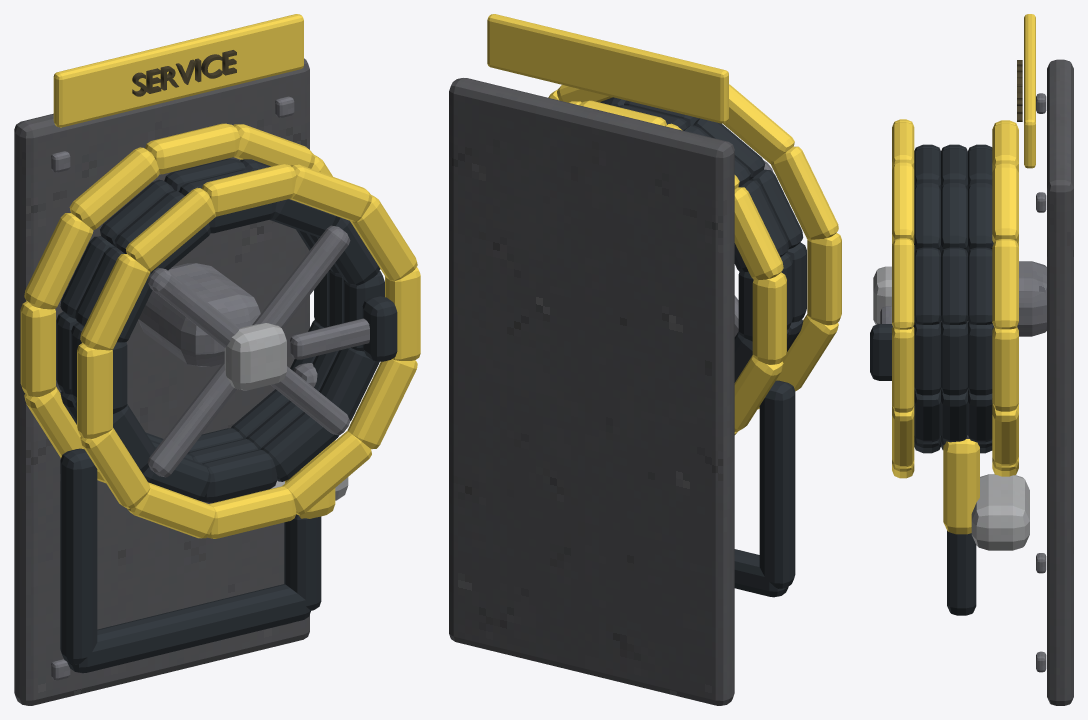
The model's file is decor_eng_hose_reel.glb.
3 renders of one model, left to right at view 1: azimuth 30°, elevation 25°; view 2: azimuth 150°, elevation 25°; view 3: azimuth 270°, elevation 25°, orthographic. The views are drawn at different scales.
Visible parts, largest first — view 1: DEC_EngHoseReel__Wall_Plate, DEC_EngHoseReel__Service_Label_Plate, DEC_EngHoseReel__Hose_Bottom_Bend, DEC_EngHoseReel__Hose_Drop, DEC_EngHoseReel__Drum_Spoke_1, DEC_EngHoseReel__Reel_Bracket, DEC_EngHoseReel__Drum_Spoke_0, DEC_EngHoseReel__Axle_Cap, DEC_EngHoseReel__Rear_Flange_06, DEC_EngHoseReel__Front_Flange_06, DEC_EngHoseReel__Rear_Flange_05, DEC_EngHoseReel__Front_Flange_05 (+42 smaller); view 2: DEC_EngHoseReel__Wall_Plate, DEC_EngHoseReel__Service_Label_Plate, DEC_EngHoseReel__Hose_Drop, DEC_EngHoseReel__Front_Flange_06, DEC_EngHoseReel__Front_Flange_07, DEC_EngHoseReel__Rear_Flange_07, DEC_EngHoseReel__Rear_Flange_06, DEC_EngHoseReel__Front_Flange_05, DEC_EngHoseReel__Front_Flange_08, DEC_EngHoseReel__Rear_Flange_08, DEC_EngHoseReel__Hose_Coil_2_06, DEC_EngHoseReel__Hose_Bottom_Bend (+7 smaller); view 3: DEC_EngHoseReel__Wall_Plate, DEC_EngHoseReel__Nozzle_Dock, DEC_EngHoseReel__Nozzle_Handle, DEC_EngHoseReel__Rear_Flange_02, DEC_EngHoseReel__Hose_Nozzle_Rise, DEC_EngHoseReel__Rear_Flange_01, DEC_EngHoseReel__Reel_Bracket, DEC_EngHoseReel__Front_Flange_02, DEC_EngHoseReel__Hose_Coil_2_02, DEC_EngHoseReel__Hose_Coil_1_02, DEC_EngHoseReel__Rear_Flange_03, DEC_EngHoseReel__Hose_Coil_0_02 (+22 smaller).
Boxes of the visible parts, x1,y1,x2,y2 form: DEC_EngHoseReel__Wall_Plate: [14, 58, 309, 705]; DEC_EngHoseReel__Service_Label_Plate: [53, 14, 303, 127]; DEC_EngHoseReel__Hose_Bottom_Bend: [67, 584, 310, 673]; DEC_EngHoseReel__Hose_Drop: [60, 448, 97, 664]; DEC_EngHoseReel__Drum_Spoke_1: [147, 225, 350, 477]; DEC_EngHoseReel__Reel_Bracket: [138, 263, 260, 366]; DEC_EngHoseReel__Drum_Spoke_0: [147, 267, 350, 435]; DEC_EngHoseReel__Axle_Cap: [224, 323, 286, 390]; DEC_EngHoseReel__Rear_Flange_06: [24, 213, 93, 309]; DEC_EngHoseReel__Front_Flange_06: [80, 254, 150, 350]; DEC_EngHoseReel__Rear_Flange_05: [69, 147, 159, 229]; DEC_EngHoseReel__Front_Flange_05: [125, 187, 215, 271]; DEC_EngHoseReel__Wall_Plate: [449, 78, 734, 705]; DEC_EngHoseReel__Service_Label_Plate: [487, 14, 728, 123]; DEC_EngHoseReel__Hose_Drop: [759, 380, 795, 588]; DEC_EngHoseReel__Front_Flange_06: [771, 146, 838, 239]; DEC_EngHoseReel__Front_Flange_07: [807, 232, 841, 325]; DEC_EngHoseReel__Rear_Flange_07: [752, 272, 786, 364]; DEC_EngHoseReel__Rear_Flange_06: [734, 187, 783, 280]; DEC_EngHoseReel__Front_Flange_05: [723, 84, 794, 163]; DEC_EngHoseReel__Front_Flange_08: [776, 314, 838, 391]; DEC_EngHoseReel__Rear_Flange_08: [734, 355, 783, 431]; DEC_EngHoseReel__Hose_Coil_2_06: [750, 169, 803, 249]; DEC_EngHoseReel__Hose_Bottom_Bend: [734, 549, 788, 597]; DEC_EngHoseReel__Wall_Plate: [1047, 59, 1073, 705]; DEC_EngHoseReel__Nozzle_Dock: [971, 474, 1029, 550]; DEC_EngHoseReel__Nozzle_Handle: [943, 439, 979, 534]; DEC_EngHoseReel__Rear_Flange_02: [992, 239, 1018, 329]; DEC_EngHoseReel__Hose_Nozzle_Rise: [947, 530, 976, 613]; DEC_EngHoseReel__Rear_Flange_01: [992, 327, 1018, 411]; DEC_EngHoseReel__Reel_Bracket: [940, 261, 1046, 336]; DEC_EngHoseReel__Front_Flange_02: [892, 238, 914, 329]; DEC_EngHoseReel__Hose_Coil_2_02: [914, 247, 940, 324]; DEC_EngHoseReel__Hose_Coil_1_02: [941, 247, 967, 324]; DEC_EngHoseReel__Rear_Flange_03: [992, 163, 1018, 242]; DEC_EngHoseReel__Hose_Coil_0_02: [968, 247, 992, 324].
Bounding box in the file's own units: 0.725 × 1.31 × 0.418.
Materials: 6 (3 with a texture image).
